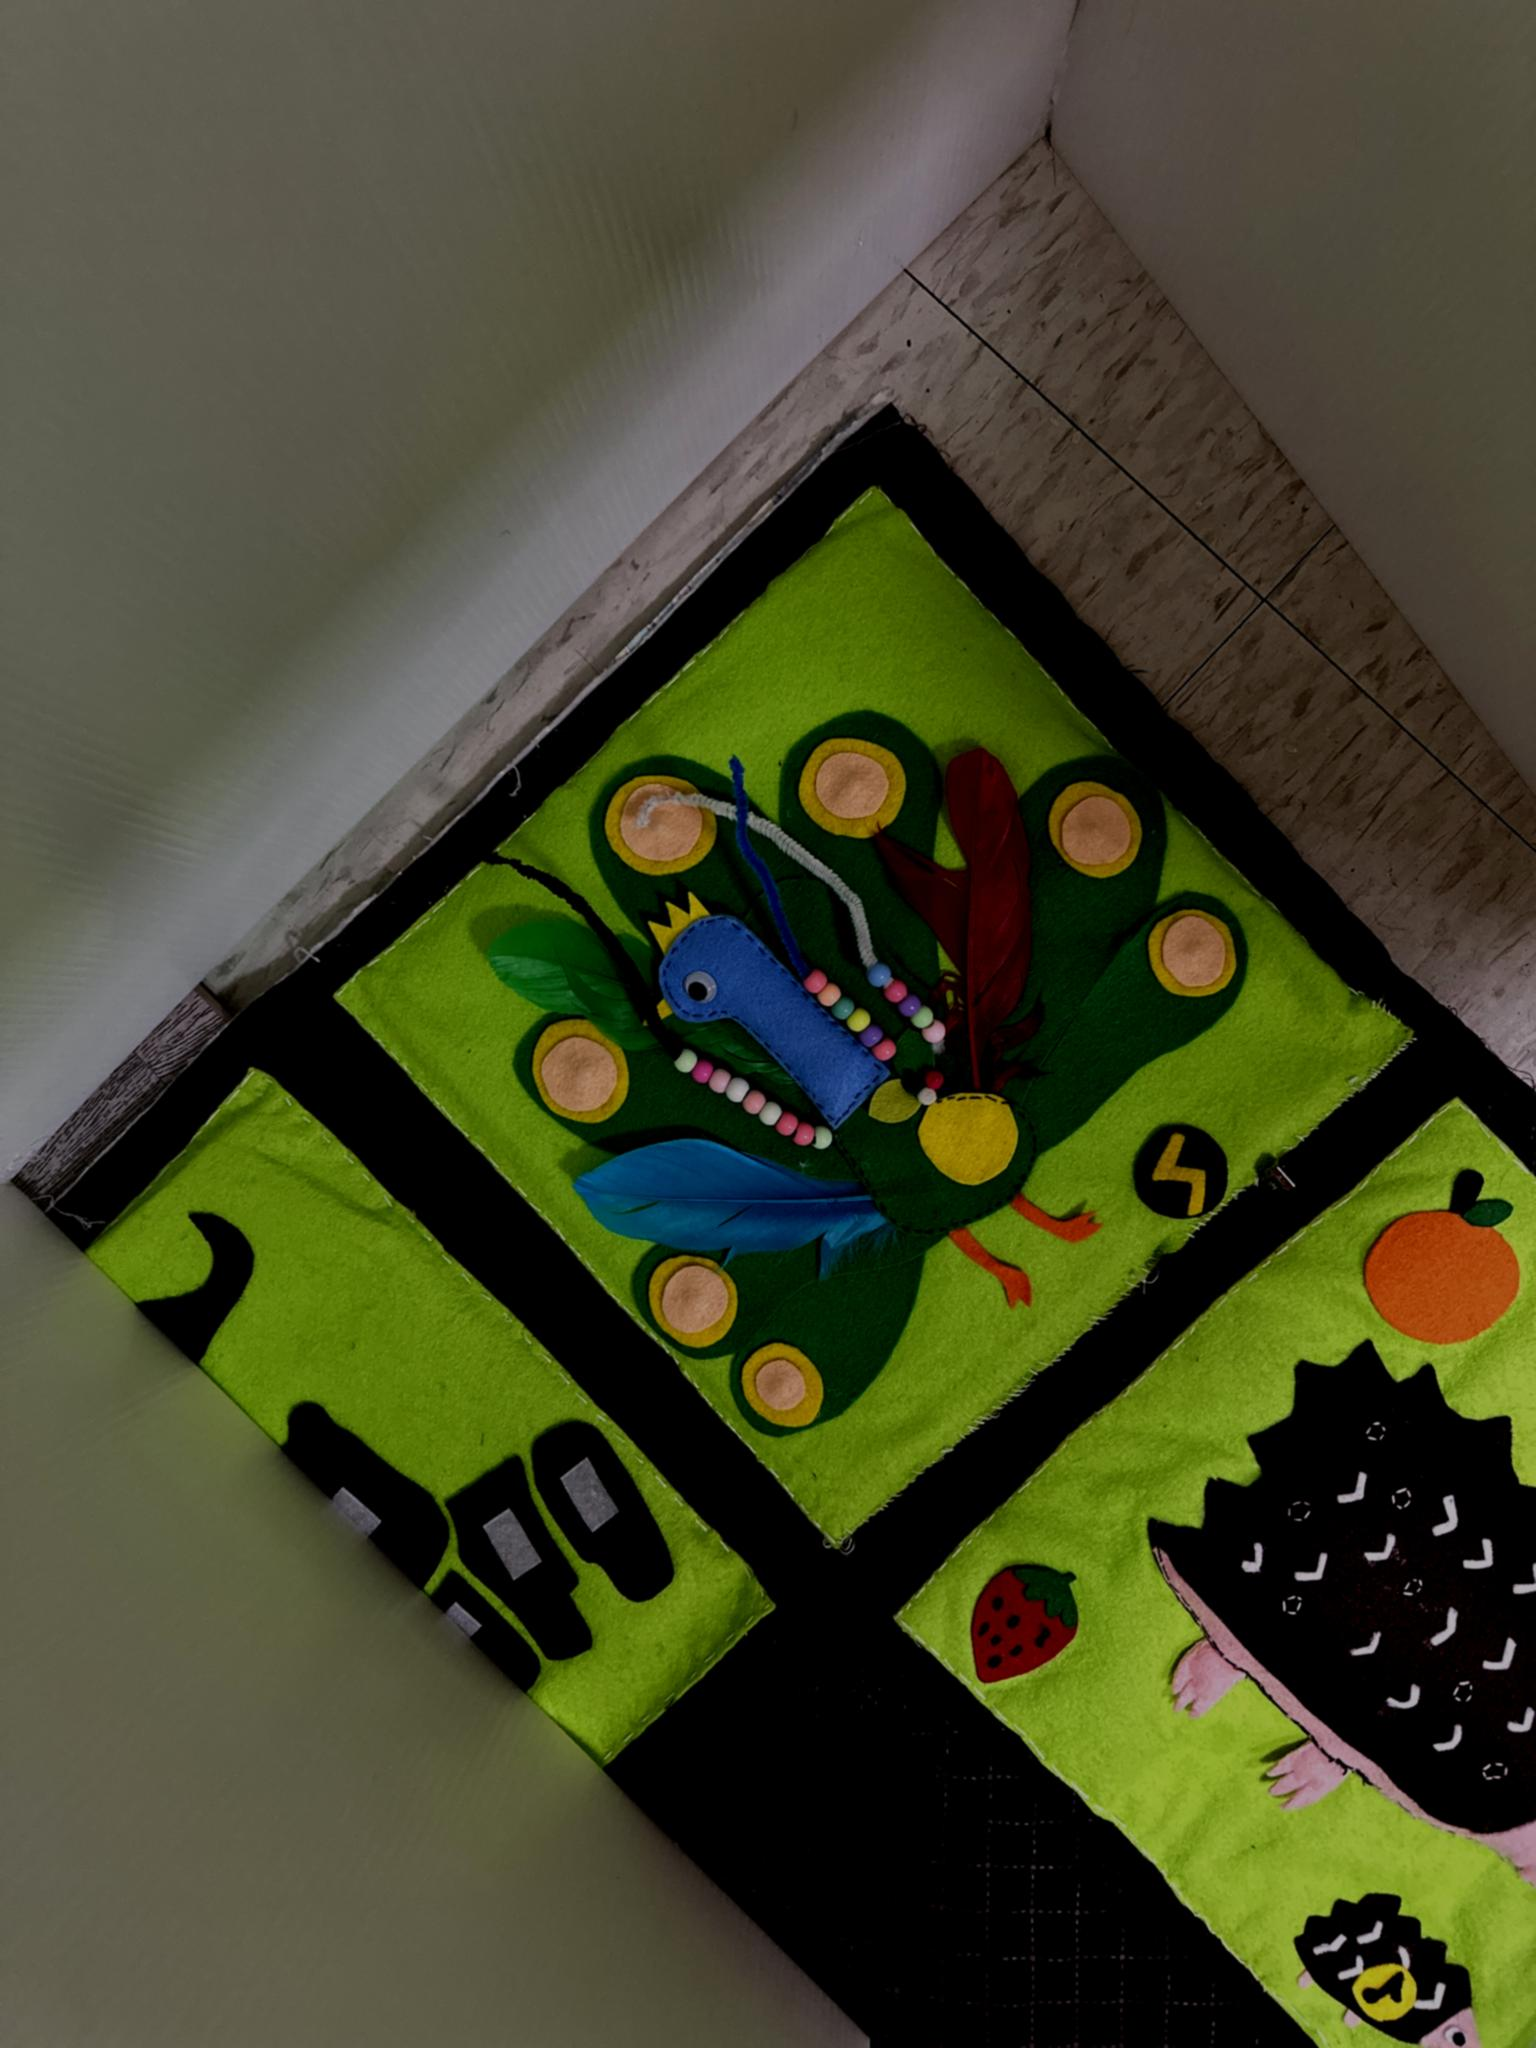bead: (866, 963, 891, 985), (858, 1024, 881, 1047), (760, 1103, 783, 1126), (728, 1077, 745, 1105), (745, 1092, 765, 1116), (708, 1072, 729, 1093), (805, 971, 824, 993), (695, 1059, 713, 1084), (900, 995, 920, 1016), (849, 1013, 870, 1032), (834, 998, 854, 1019), (779, 1114, 799, 1135), (676, 1051, 695, 1072), (923, 1024, 945, 1042), (795, 1124, 813, 1145), (913, 1008, 933, 1026), (820, 985, 839, 1003), (886, 985, 907, 1001), (873, 1042, 892, 1058), (820, 1127, 831, 1150)
